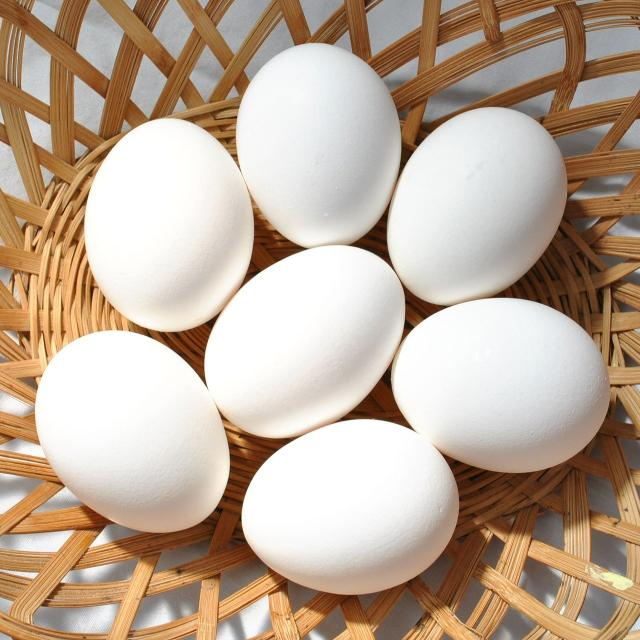egg: (34, 328, 232, 535), (204, 243, 407, 440), (242, 419, 460, 596), (392, 297, 608, 474), (86, 117, 255, 334), (387, 105, 568, 306), (235, 41, 403, 248)
